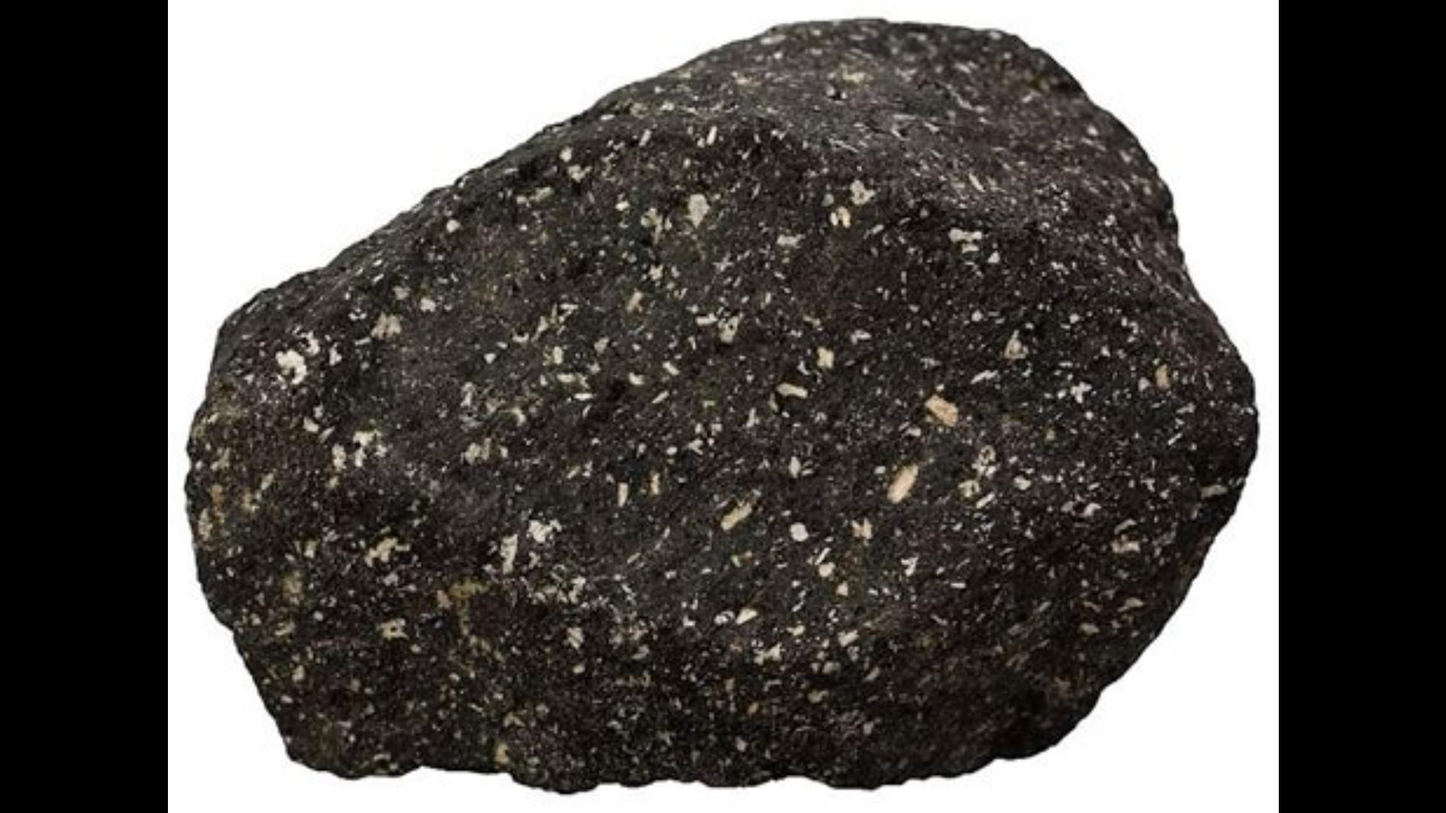rock: (184, 28, 1252, 792)
